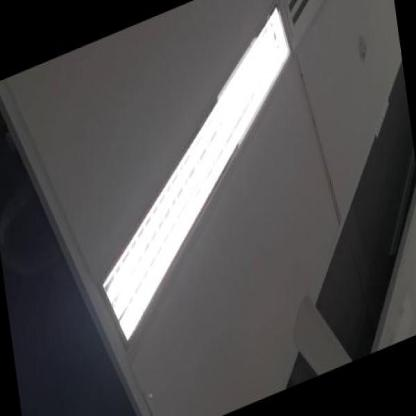light_on: (61, 0, 343, 392)
